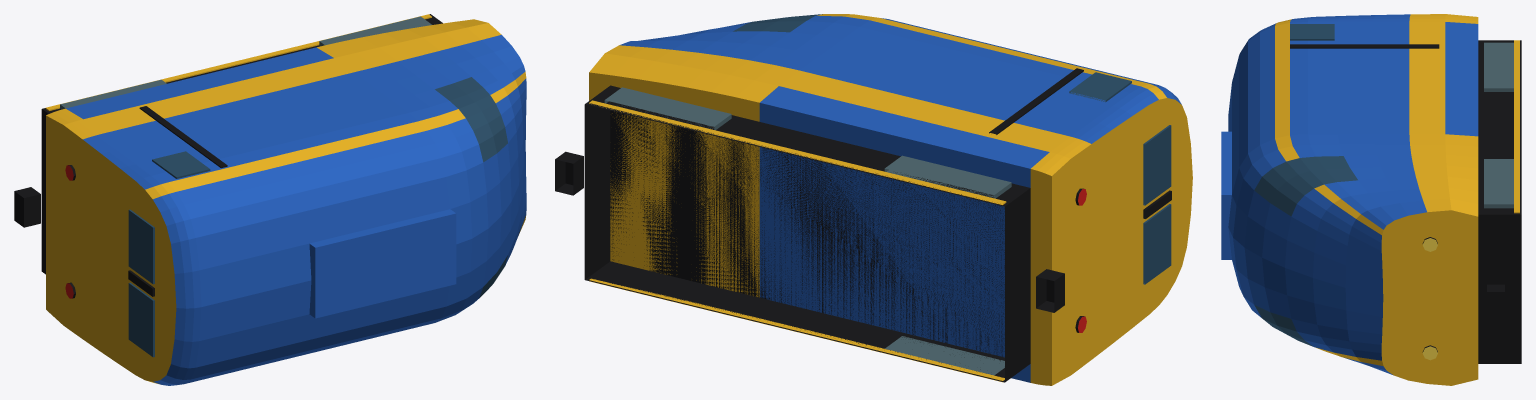
3 views of the same model, side by side, from view 1: azimuth 30°, elevation 25°; view 2: azimuth 150°, elevation 25°; view 3: azimuth 270°, elevation 25° (orthographic). The views are drawn at different scales.
Visible parts, largest first — view 1: default_body, default_roof_pod, default_screen-10.62, default_screen-1-0.62, default_skirt, default_side1_-3.40_0.75_hazard_yellow, default_coupler-1, default_side1_-3.30_3.85_glass_dark, default_pod11, default_side1_-2.51_2.10_black, default_pod-11; view 2: default_body, default_skirt, default_pod-11, default_side1_-3.40_0.75_hazard_yellow, default_pod11, default_side-1_-3.40_0.75_hazard_yellow, default_pod-1-1, default_screen-1-0.62, default_screen-10.62, default_coupler1, default_coupler-1, default_side1_-3.30_3.85_glass_dark (+1 smaller); view 3: default_body, default_skirt, default_pod11, default_pod-11, default_roof_pod, default_side1_-3.40_0.75_hazard_yellow, default_side1_-3.30_3.85_glass_dark, default_side1_-2.51_2.10_black, default_coupler1.
Boxes of the visible parts, x1=… form: default_body: x1=46, y1=19, x2=526, y2=385; default_roof_pod: x1=309, y1=209, x2=456, y2=318; default_screen-10.62: x1=128, y1=209, x2=154, y2=284; default_screen-1-0.62: x1=128, y1=282, x2=154, y2=357; default_skirt: x1=41, y1=14, x2=442, y2=274; default_side1_-3.40_0.75_hazard_yellow: x1=45, y1=14, x2=431, y2=110; default_coupler-1: x1=14, y1=187, x2=40, y2=227; default_side1_-3.30_3.85_glass_dark: x1=152, y1=151, x2=210, y2=178; default_pod11: x1=319, y1=16, x2=431, y2=46; default_side1_-2.51_2.10_black: x1=139, y1=106, x2=227, y2=168; default_pod-11: x1=60, y1=79, x2=166, y2=109; default_body: x1=589, y1=14, x2=1192, y2=385; default_skirt: x1=584, y1=85, x2=1030, y2=382; default_pod-11: x1=884, y1=155, x2=1011, y2=198; default_side1_-3.40_0.75_hazard_yellow: x1=589, y1=100, x2=1006, y2=204; default_pod11: x1=604, y1=87, x2=731, y2=130; default_side-1_-3.40_0.75_hazard_yellow: x1=589, y1=278, x2=1004, y2=382; default_pod-1-1: x1=885, y1=336, x2=1004, y2=375; default_screen-1-0.62: x1=1143, y1=204, x2=1171, y2=284; default_screen-10.62: x1=1143, y1=125, x2=1171, y2=205; default_coupler1: x1=555, y1=151, x2=583, y2=195; default_coupler-1: x1=1036, y1=269, x2=1064, y2=312; default_side1_-3.30_3.85_glass_dark: x1=1069, y1=72, x2=1131, y2=102; default_body: x1=1228, y1=14, x2=1478, y2=385; default_skirt: x1=1478, y1=40, x2=1521, y2=363; default_pod11: x1=1484, y1=159, x2=1513, y2=208; default_pod-11: x1=1484, y1=42, x2=1513, y2=91; default_roof_pod: x1=1221, y1=131, x2=1231, y2=259; default_side1_-3.40_0.75_hazard_yellow: x1=1514, y1=40, x2=1519, y2=213; default_side1_-3.30_3.85_glass_dark: x1=1290, y1=24, x2=1334, y2=40; default_side1_-2.51_2.10_black: x1=1290, y1=44, x2=1439, y2=48; default_coupler1: x1=1487, y1=284, x2=1504, y2=319.
Size of the model in its own units: 8.2 by 3.5 by 5.03.
